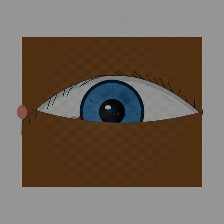hemorrhage_spot: (64, 102, 122, 149)
